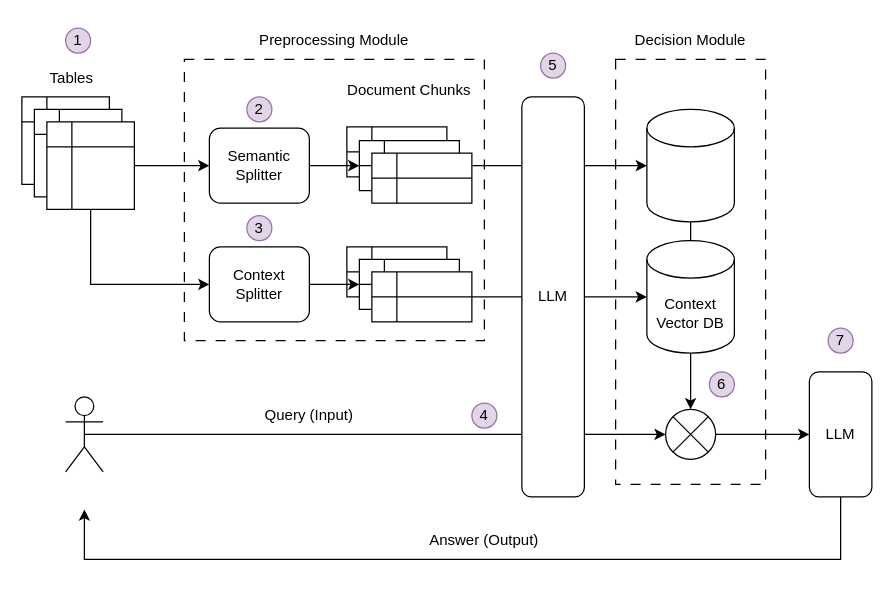
The diagram is 894 pixels wide and 591 high, and some of its shapes have lost their labels. The shapes that lost their labels are listed below. From the top down, each one's centre as x and y in pixels, then its label:
[690,165]: Semantic Vector DB
[83,434]: User
